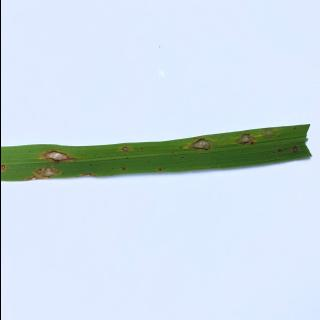Blast: (38, 150, 78, 164), (180, 138, 210, 152), (39, 165, 58, 179), (233, 132, 255, 144), (23, 176, 40, 182), (118, 146, 130, 153), (32, 168, 42, 175), (80, 173, 96, 177), (0, 162, 5, 172), (291, 147, 297, 153), (274, 150, 280, 154)
